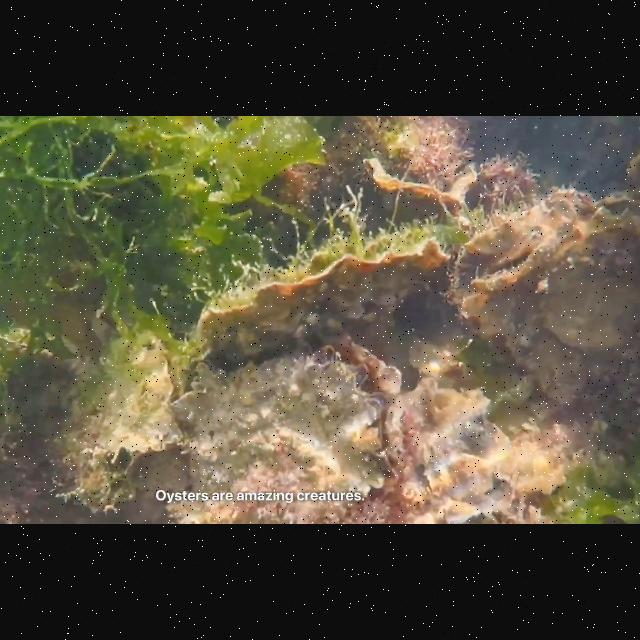Oyster-Closed: (205, 222, 463, 356)
Oyster-Open: (158, 346, 398, 524), (450, 186, 640, 407), (387, 375, 515, 525), (96, 339, 186, 473), (57, 402, 141, 514), (362, 156, 464, 226)
